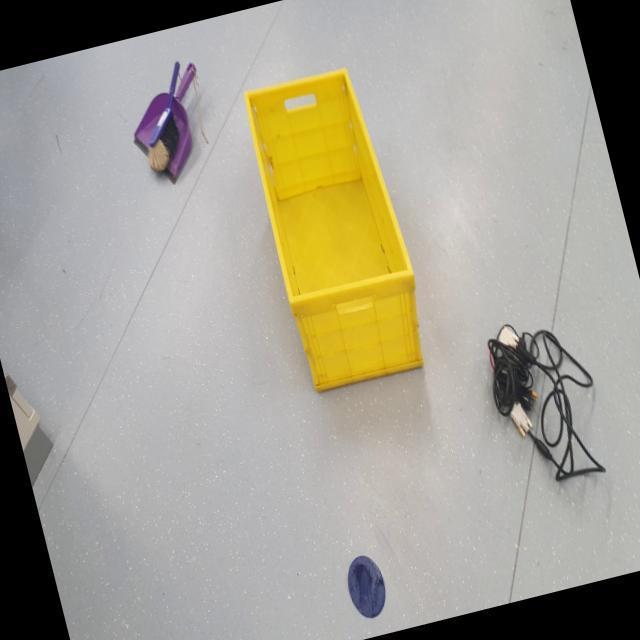box: (226, 40, 451, 419)
